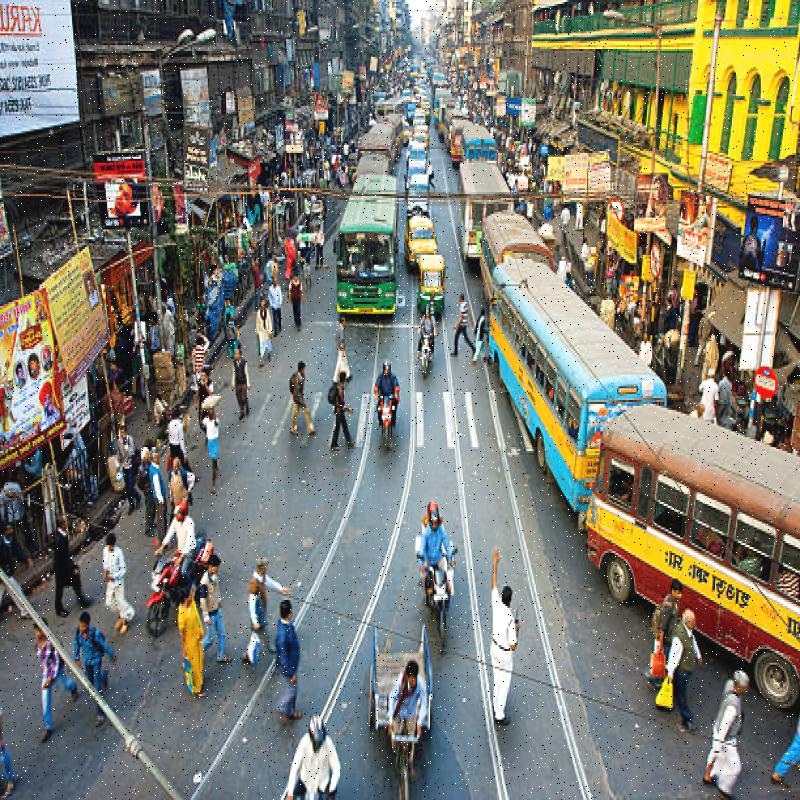auto: (412, 249, 451, 312)
bus: (593, 461, 800, 641), (456, 278, 678, 444), (314, 164, 406, 324)
car: (396, 188, 452, 250)
